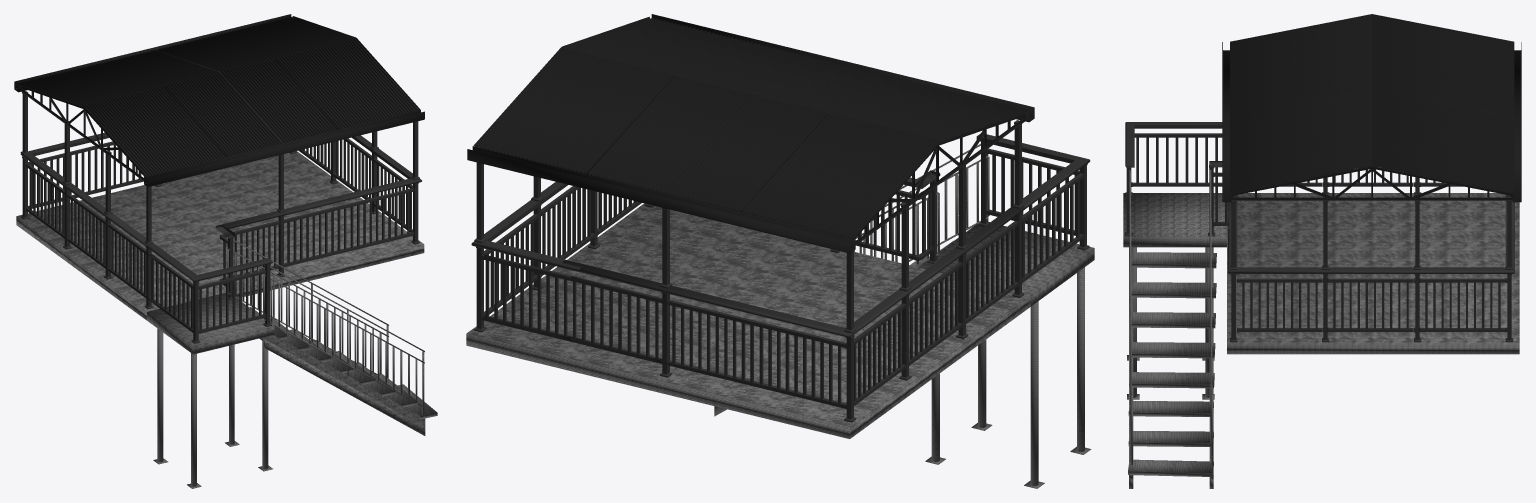
The model's file is lutai.glb.
3 views of the same model, side by side, from view 1: azimuth 30°, elevation 25°; view 2: azimuth 150°, elevation 25°; view 3: azimuth 270°, elevation 25° (orthographic). The views are drawn at different scales.
Parts seen in each view (by area): view 1: yupeng, diban, louti, langan_left_1, langan_right_2, langan_behind_1, langan_behind_2, langan_behind_3, langan_before_2, langan_before_1, langan_left_2, langan_before (+10 smaller); view 2: yupeng, diban, louti, langan_right_1, langan_right_2, langgan_right, langan_behind_2, langan_behind_3, langan_behind_1, langan_before_2, langan_before, langan_before_3 (+9 smaller); view 3: yupeng, diban, louti, langan_before, langan_before_2, langan_before_1, langan_before_3, before_zhuzi_4, before_zhuzi_2, before_zhuzi_3, before_zhuzi_1, langan_behind_2.
Part boxes in pixels (box(x1,y1,x2,y2)): yupeng: box(14, 14, 424, 186); diban: box(16, 151, 424, 320); louti: box(147, 224, 437, 488); langan_left_1: box(284, 188, 414, 267); langan_right_2: box(28, 141, 143, 208); langan_behind_1: box(26, 163, 64, 238); langan_behind_2: box(67, 193, 105, 268); langan_behind_3: box(108, 223, 146, 298); langan_before_2: box(332, 138, 371, 199); langan_before_1: box(373, 159, 412, 232); langan_left_2: box(219, 220, 280, 280); langan_before: box(340, 135, 421, 200); yupeng: box(467, 14, 1034, 253); diban: box(466, 203, 1030, 438); louti: box(714, 133, 1094, 488); langan_right_1: box(481, 254, 662, 364); langan_right_2: box(667, 299, 846, 409); langgan_right: box(562, 260, 909, 337); langan_behind_2: box(909, 261, 962, 365); langan_behind_3: box(966, 220, 1018, 323); langan_behind_1: box(854, 303, 905, 405); langan_before_2: box(541, 186, 595, 276); langan_before: box(471, 182, 581, 271); langan_before_3: box(484, 213, 538, 315); yupeng: box(1222, 14, 1521, 202); diban: box(1227, 193, 1519, 354); louti: box(1123, 122, 1228, 488); langan_before: box(1228, 228, 1514, 273); langan_before_2: box(1327, 278, 1415, 332); langan_before_1: box(1237, 278, 1323, 332); langan_before_3: box(1419, 278, 1507, 332); before_zhuzi_4: box(1505, 200, 1513, 342); before_zhuzi_2: box(1322, 200, 1329, 342); before_zhuzi_3: box(1414, 200, 1421, 342); before_zhuzi_1: box(1230, 200, 1237, 342); langan_behind_2: box(1327, 169, 1415, 186).
Bounding box in the file's own units: 36.8 × 39.15 × 40.75.
Materials: 48 (10 with a texture image).
